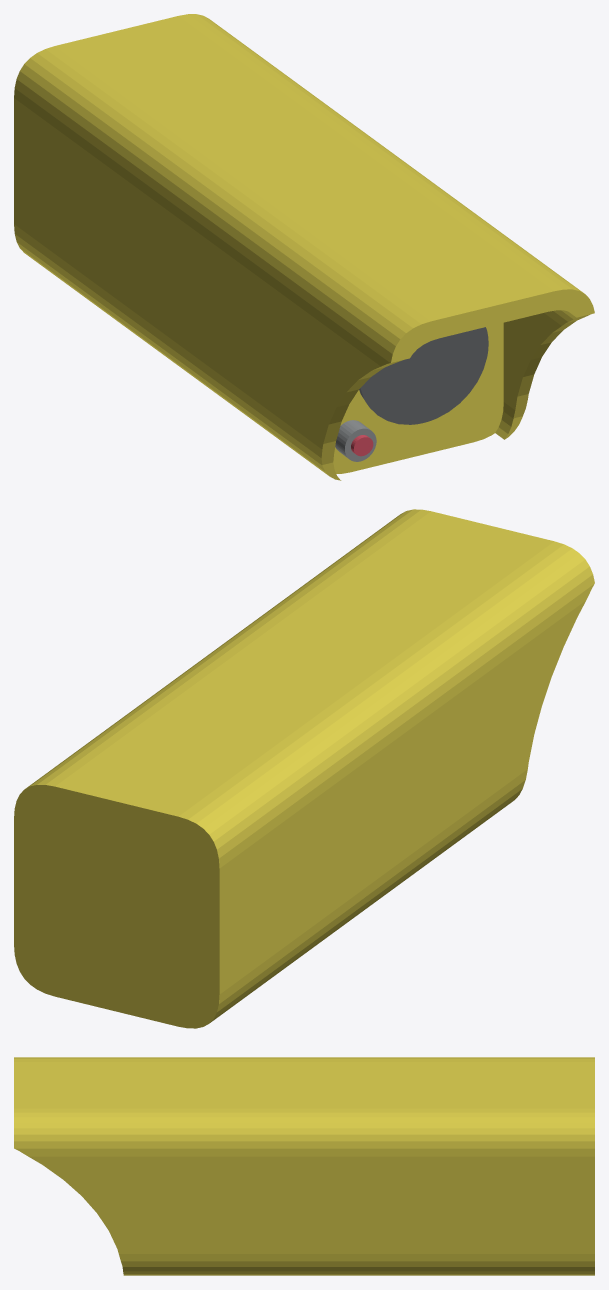
Rendered from operational-camera-yellow.glb.
3 views of the same model, one above another, from view 1: azimuth 30°, elevation 25°; view 2: azimuth 150°, elevation 25°; view 3: azimuth 270°, elevation 25° (orthographic). The views are drawn at different scales.
Visible parts, largest first — view 1: Mesh_Mesh_head_geo.001_lambert2SG.001; view 2: Mesh_Mesh_head_geo.001_lambert2SG.001; view 3: Mesh_Mesh_head_geo.001_lambert2SG.001.
Part boxes in pixels (bbox=[...]): Mesh_Mesh_head_geo.001_lambert2SG.001: bbox=[14, 14, 594, 480]; Mesh_Mesh_head_geo.001_lambert2SG.001: bbox=[14, 509, 594, 1028]; Mesh_Mesh_head_geo.001_lambert2SG.001: bbox=[14, 1057, 594, 1275].
Size of the model in its own units: 33.87 by 33.08 by 107.
